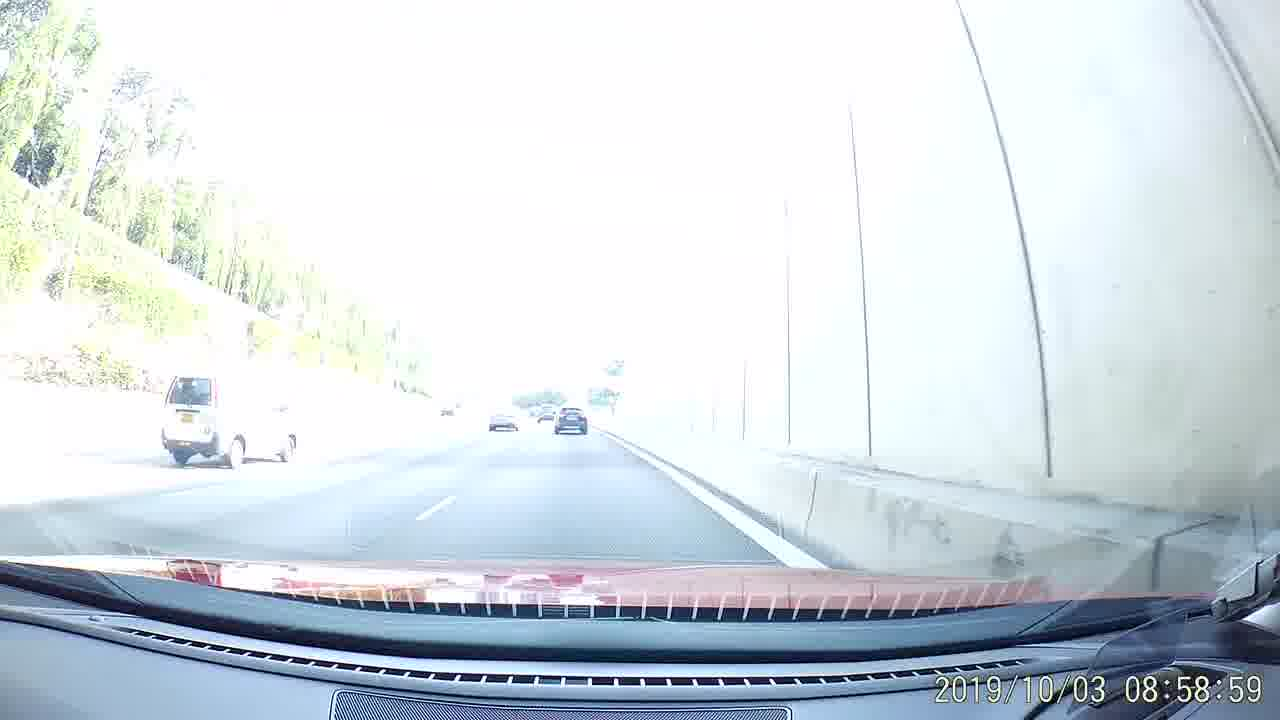car: (551, 403, 591, 437), (487, 411, 520, 434)
